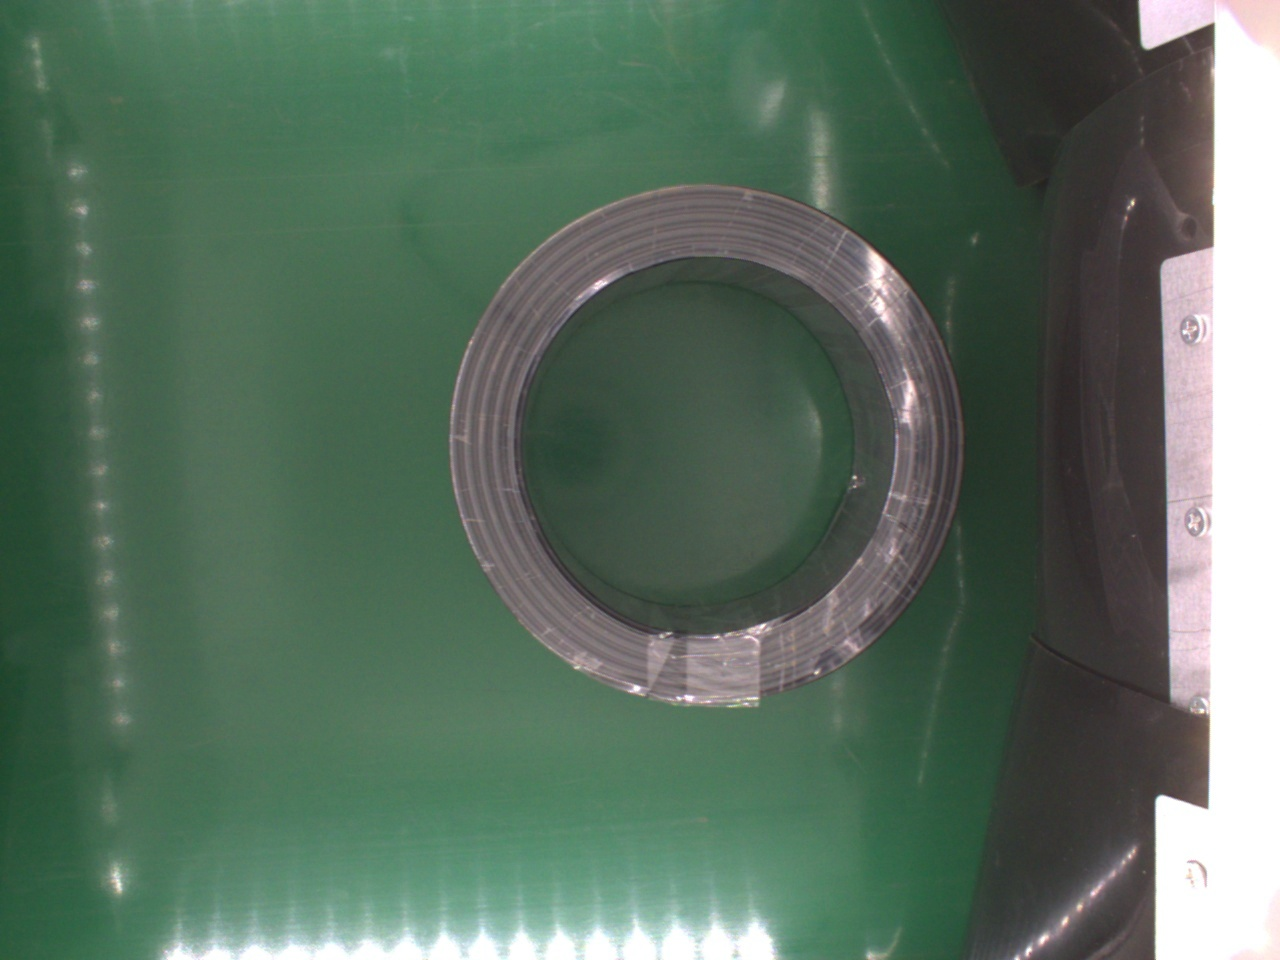black: (449, 182, 967, 702)
